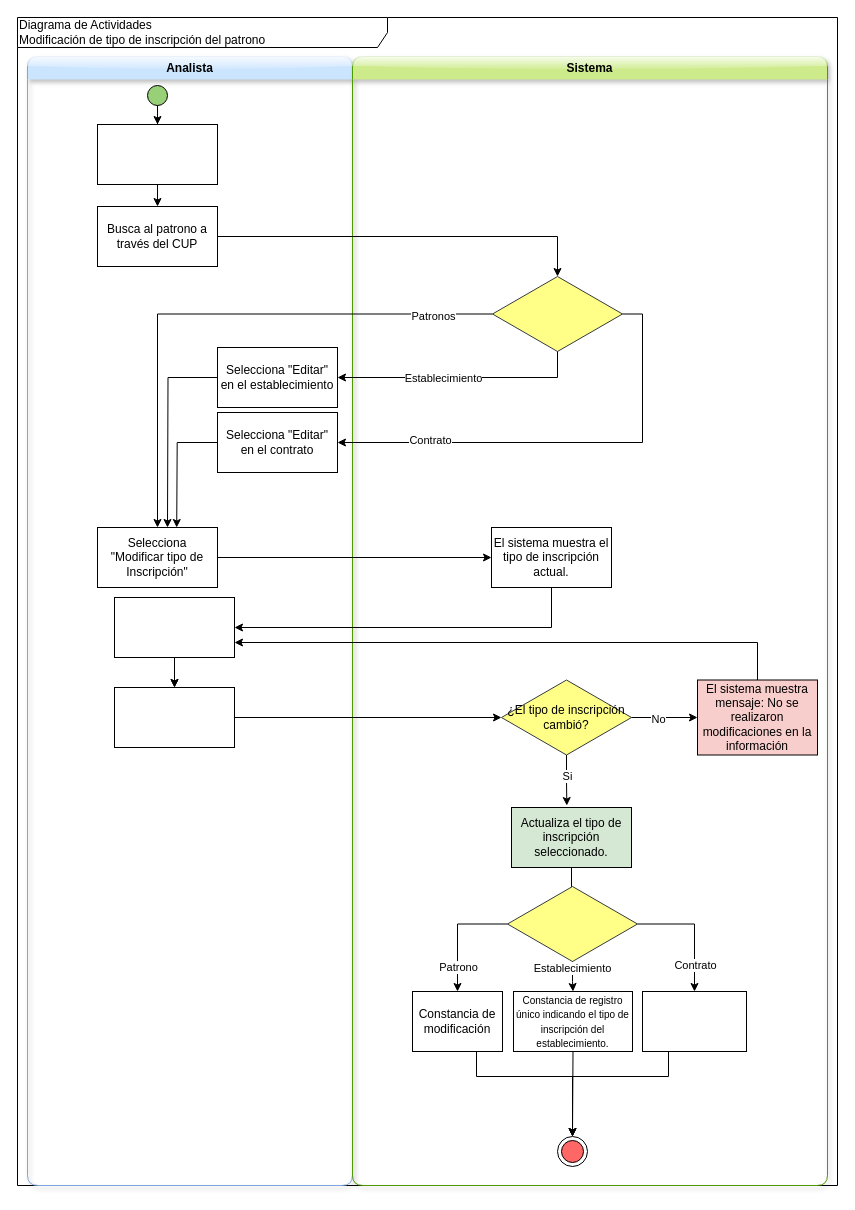
Image size: 855x1210. Some labels were removed from this diagram. Here are the shapes that lost their labels. From the top down, the centre of each, then its label:
At (157,154): "Ingresa al sistema SIGSS y selecciona Modificación de Patronos".
At (557,314): "¿Que desea modificar?".
At (174,627): "Selecciona el nuevo tipo de inscripción".
At (174,717): "Guarda los cambios.".
At (572,924): "Identifica el tipo de constancia".
At (694,1021): "Constancia de registro único indicando el tipo de inscripción del contrato".
At (572,1151): "Fin".
